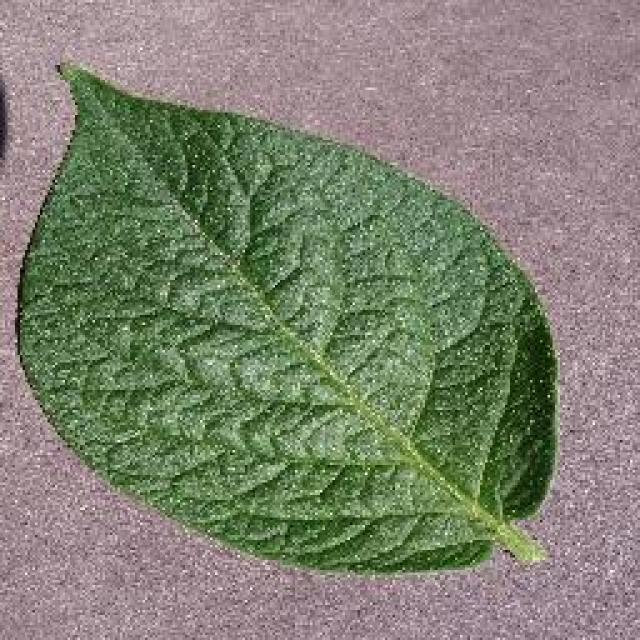healthy: (13, 55, 565, 580)
